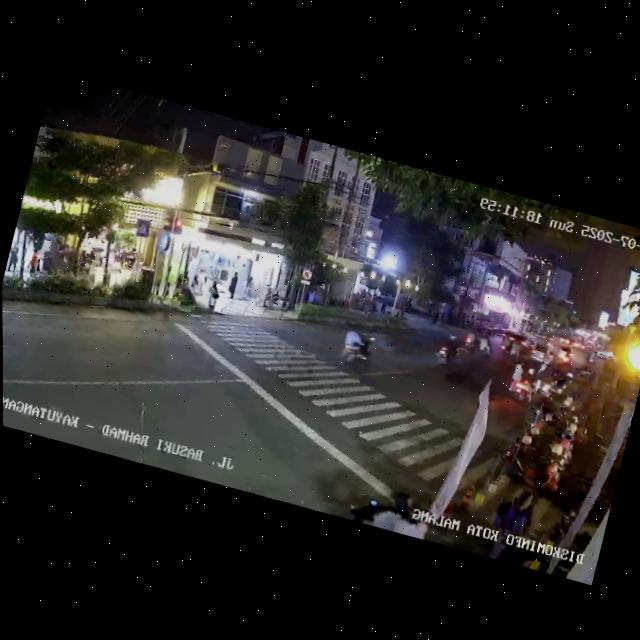motorcycle: (336, 324, 379, 372), (505, 357, 539, 405), (432, 331, 464, 371), (501, 334, 520, 357)
person: (489, 472, 541, 562), (204, 278, 222, 312), (24, 247, 42, 281), (5, 242, 21, 272), (226, 268, 241, 299), (75, 249, 90, 273)
